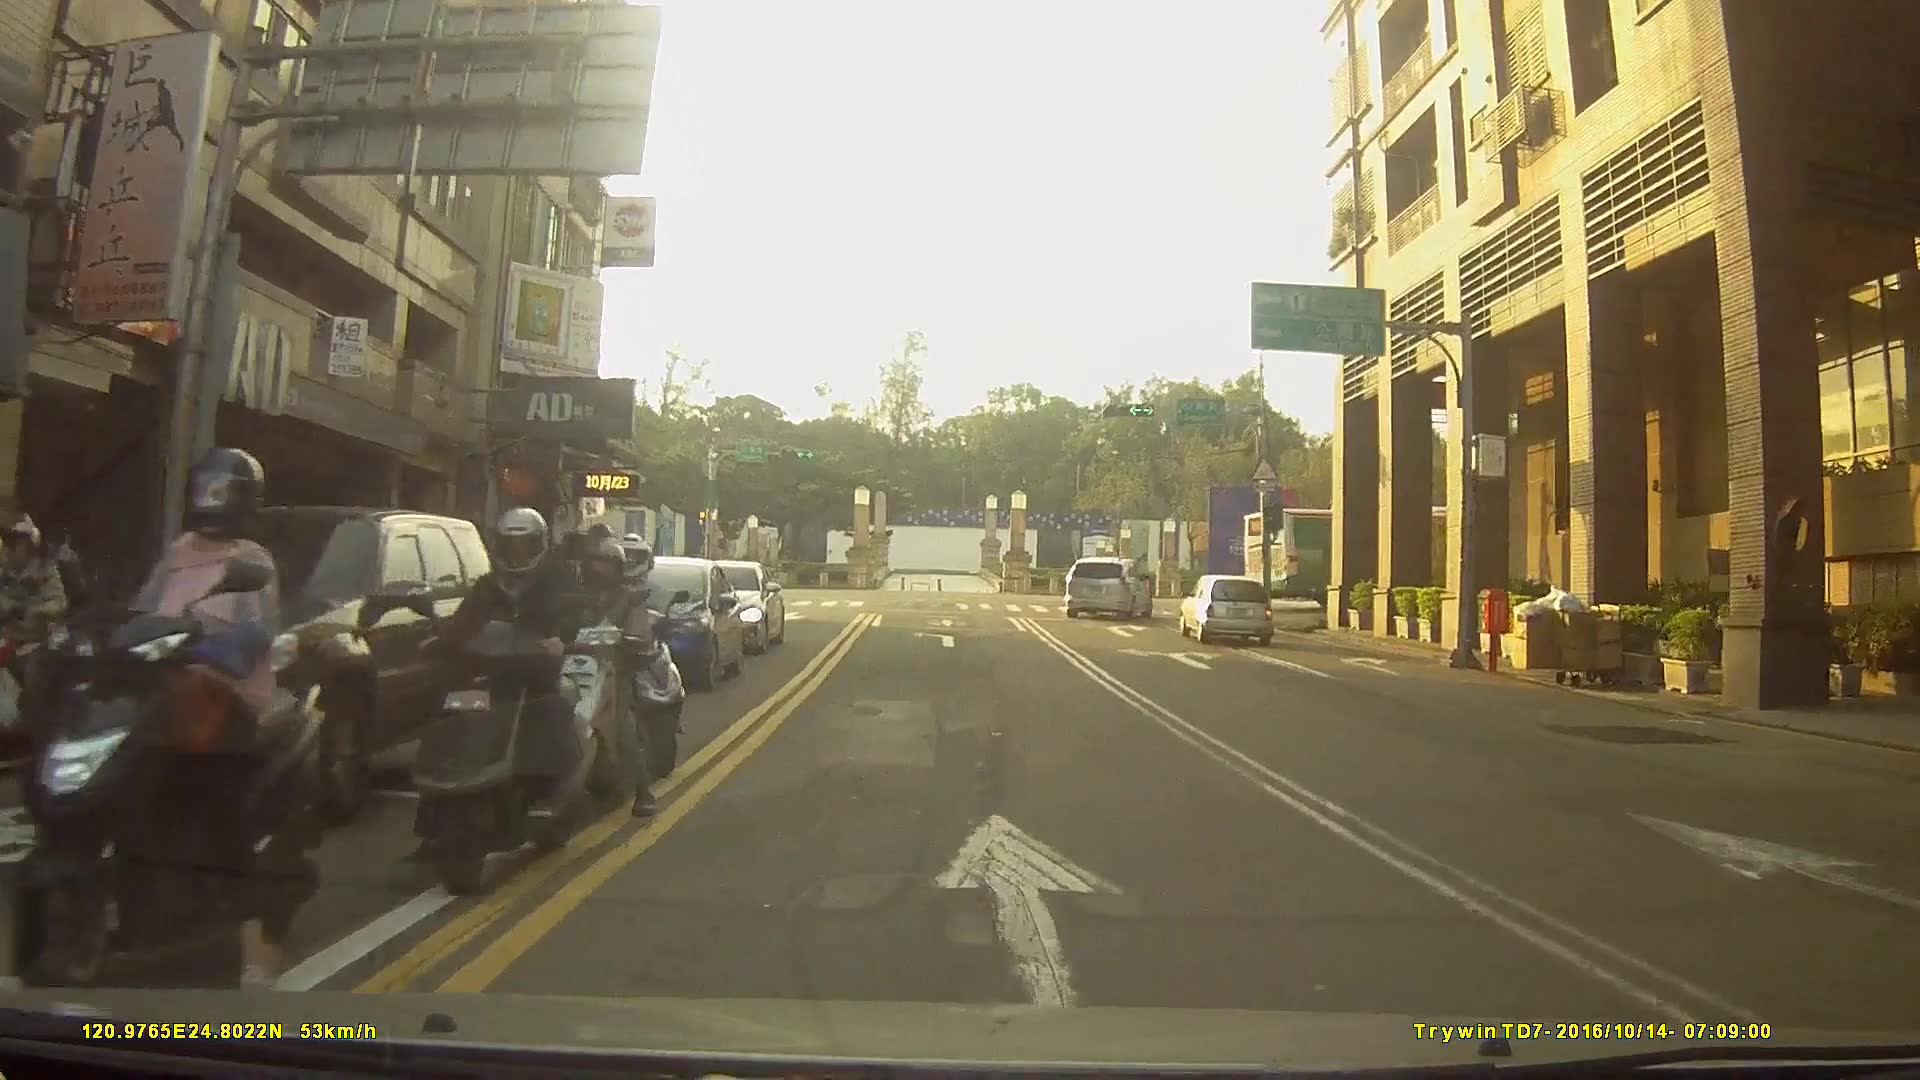rider: (1, 442, 329, 1003), (404, 512, 594, 904), (1, 512, 88, 772)
vehicle: (16, 506, 500, 824), (1243, 507, 1509, 603), (567, 551, 744, 691), (1175, 571, 1273, 644), (1064, 555, 1150, 619)
